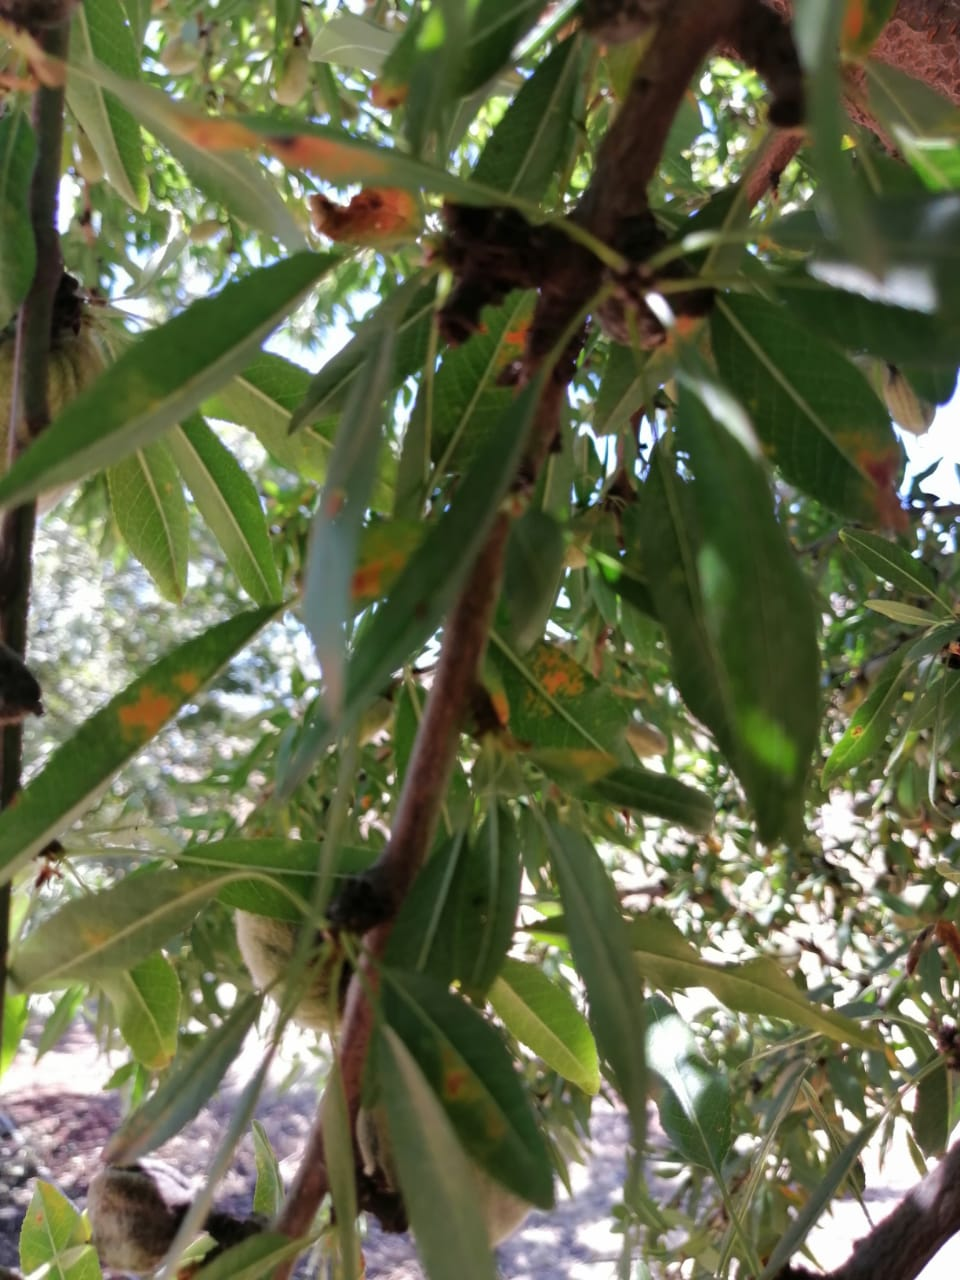polystigma: (1, 599, 287, 881), (375, 965, 563, 1213), (492, 633, 642, 830)
